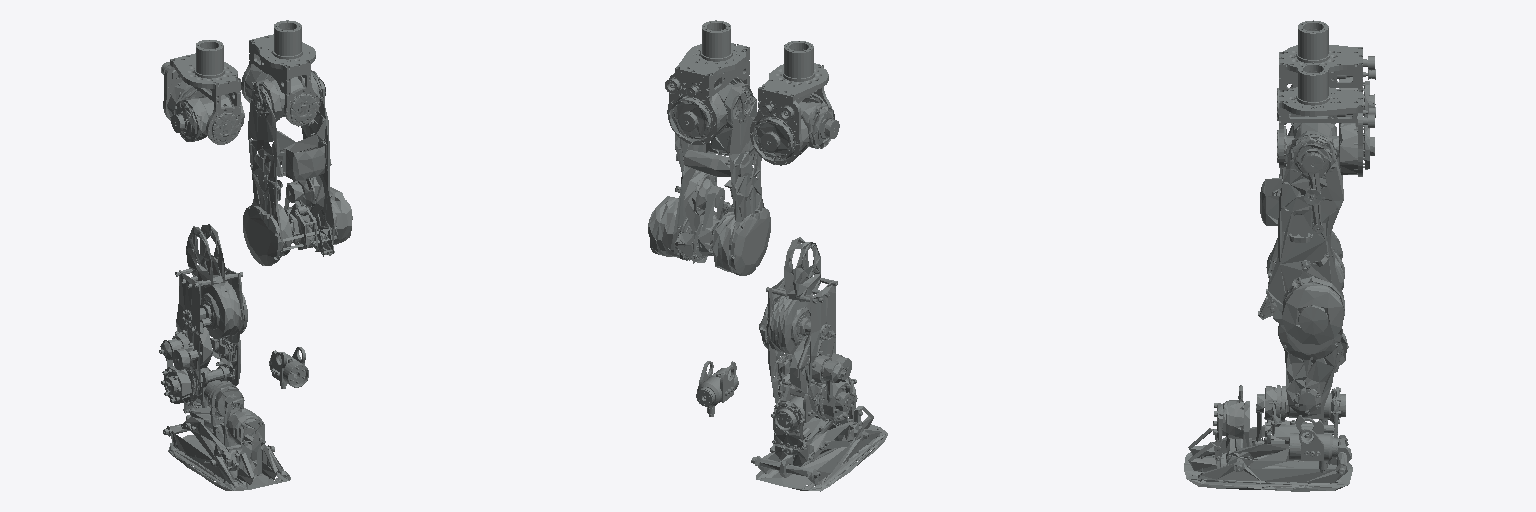
URDF robot description (a600_description):
<?xml version="1.0" encoding="utf-8"?>
<robot
  name="a600_description">
  <link
    name="base_link">
    <inertial>
      <origin
        xyz="-0.0014901 0.13851 0.00071357"
        rpy="0 0 0" />
      <mass
        value="28.386" />
      <inertia
        ixx="0.073017"
        ixy="-3.603E-05"
        ixz="5.7649E-06"
        iyy="0.085864"
        iyz="0.0040898"
        izz="0.10252" />
    </inertial>
    <visual>
      <origin
        xyz="0 0 0"
        rpy="0 0 0" />
      <geometry>
        <mesh
          filename="package://a600_description/meshes/base_link.STL" />
      </geometry>
      <material
        name="">
        <color
          rgba="0.52941 0.54902 0.54902 1" />
      </material>
    </visual>
    <collision>
      <origin
        xyz="0 0 0"
        rpy="0 0 0" />
      <geometry>
        <mesh
          filename="package://a600_description/meshes/base_link.STL" />
      </geometry>
    </collision>
  </link>
  <link
    name="R_HipR">
    <inertial>
      <origin
        xyz="0.00071161 -0.027458 -0.023065"
        rpy="0 0 0" />
      <mass
        value="2.3558" />
      <inertia
        ixx="0.0032395"
        ixy="1.8675E-05"
        ixz="-4.6222E-05"
        iyy="0.0032177"
        iyz="7.5574E-06"
        izz="0.0025538" />
    </inertial>
    <visual>
      <origin
        xyz="0 0 0"
        rpy="0 0 0" />
      <geometry>
        <mesh
          filename="package://a600_description/meshes/R_HipR.STL" />
      </geometry>
      <material
        name="">
        <color
          rgba="0.52941 0.54902 0.54902 1" />
      </material>
    </visual>
    <collision>
      <origin
        xyz="0 0 0"
        rpy="0 0 0" />
      <geometry>
        <mesh
          filename="package://a600_description/meshes/R_HipR.STL" />
      </geometry>
    </collision>
  </link>
  <joint
    name="R_HipR"
    type="continuous">
    <origin
      xyz="-0.088 -0.027645 0"
      rpy="1.5708 0 0" />
    <parent
      link="base_link" />
    <child
      link="R_HipR" />
    <axis
      xyz="0 1 0" />
  </joint>
  <link
    name="R_HipS">
    <inertial>
      <origin
        xyz="0.0032793 0.00011106 0.025957"
        rpy="0 0 0" />
      <mass
        value="6.15" />
      <inertia
        ixx="0.0051093"
        ixy="1.2709E-05"
        ixz="7.1765E-06"
        iyy="0.0048779"
        iyz="-5.4798E-06"
        izz="0.0062721" />
    </inertial>
    <visual>
      <origin
        xyz="0 0 0"
        rpy="0 0 0" />
      <geometry>
        <mesh
          filename="package://a600_description/meshes/R_HipS.STL" />
      </geometry>
      <material
        name="">
        <color
          rgba="0.52941 0.54902 0.54902 1" />
      </material>
    </visual>
    <collision>
      <origin
        xyz="0 0 0"
        rpy="0 0 0" />
      <geometry>
        <mesh
          filename="package://a600_description/meshes/R_HipS.STL" />
      </geometry>
    </collision>
  </link>
  <joint
    name="R_HipS"
    type="continuous">
    <origin
      xyz="0 -0.102 0"
      rpy="3.1416 0 3.1416" />
    <parent
      link="R_HipR" />
    <child
      link="R_HipS" />
    <axis
      xyz="0 0 1" />
  </joint>
  <link
    name="R_Knee_Upper">
    <inertial>
      <origin
        xyz="0.018772 -0.22402 -0.0063916"
        rpy="0 0 0" />
      <mass
        value="16.331" />
      <inertia
        ixx="0.048034"
        ixy="2.0407E-07"
        ixz="-6.8084E-05"
        iyy="0.015142"
        iyz="-0.00213"
        izz="0.039371" />
    </inertial>
    <visual>
      <origin
        xyz="0 0 0"
        rpy="0 0 0" />
      <geometry>
        <mesh
          filename="package://a600_description/meshes/R_Knee_Upper.STL" />
      </geometry>
      <material
        name="">
        <color
          rgba="0.52941 0.54902 0.54902 1" />
      </material>
    </visual>
    <collision>
      <origin
        xyz="0 0 0"
        rpy="0 0 0" />
      <geometry>
        <mesh
          filename="package://a600_description/meshes/R_Knee_Upper.STL" />
      </geometry>
    </collision>
  </link>
  <joint
    name="R_Knee_Upper"
    type="continuous">
    <origin
      xyz="0 0 0"
      rpy="0 0 0" />
    <parent
      link="R_HipS" />
    <child
      link="R_Knee_Upper" />
    <axis
      xyz="1 0 0" />
  </joint>
  <link
    name="R_Knee_Lower">
    <inertial>
      <origin
        xyz="-0.011938 -0.17383 0.0029031"
        rpy="0 0 0" />
      <mass
        value="10.03" />
      <inertia
        ixx="0.020389"
        ixy="3.5365E-08"
        ixz="-9.649E-07"
        iyy="0.0072632"
        iyz="8.7687E-05"
        izz="0.015199" />
    </inertial>
    <visual>
      <origin
        xyz="0 0 0"
        rpy="0 0 0" />
      <geometry>
        <mesh
          filename="package://a600_description/meshes/R_Knee_Lower.STL" />
      </geometry>
      <material
        name="">
        <color
          rgba="0.52941 0.54902 0.54902 1" />
      </material>
    </visual>
    <collision>
      <origin
        xyz="0 0 0"
        rpy="0 0 0" />
      <geometry>
        <mesh
          filename="package://a600_description/meshes/R_Knee_Lower.STL" />
      </geometry>
    </collision>
  </link>
  <joint
    name="R_Knee_Lower"
    type="continuous">
    <origin
      xyz="0 -0.28 0"
      rpy="3.1416 0 3.1416" />
    <parent
      link="R_Knee_Upper" />
    <child
      link="R_Knee_Lower" />
    <axis
      xyz="1 0 0" />
  </joint>
  <link
    name="R_FootR">
    <inertial>
      <origin
        xyz="-0.00069157 0.029306 0.012871"
        rpy="0 0 0" />
      <mass
        value="1.1565" />
      <inertia
        ixx="0.00063348"
        ixy="-6.7285E-07"
        ixz="-4.078E-08"
        iyy="0.00057147"
        iyz="-3.7116E-06"
        izz="0.0003019" />
    </inertial>
    <visual>
      <origin
        xyz="0 0 0"
        rpy="0 0 0" />
      <geometry>
        <mesh
          filename="package://a600_description/meshes/R_FootR.STL" />
      </geometry>
      <material
        name="">
        <color
          rgba="0.52941 0.54902 0.54902 1" />
      </material>
    </visual>
    <collision>
      <origin
        xyz="0 0 0"
        rpy="0 0 0" />
      <geometry>
        <mesh
          filename="package://a600_description/meshes/R_FootR.STL" />
      </geometry>
    </collision>
  </link>
  <joint
    name="R_FootR"
    type="continuous">
    <origin
      xyz="0 -0.27682 0.010063"
      rpy="3.1053 -0.00039391 -0.010836" />
    <parent
      link="R_Knee_Lower" />
    <child
      link="R_FootR" />
    <axis
      xyz="0.99994 -0.010843 0" />
  </joint>
  <link
    name="R_FootS">
    <inertial>
      <origin
        xyz="-6.0221E-05 0.080294 -0.056863"
        rpy="0 0 0" />
      <mass
        value="11.269" />
      <inertia
        ixx="0.02985"
        ixy="-1.1479E-05"
        ixz="7.8243E-06"
        iyy="0.03455"
        iyz="0.00043103"
        izz="0.0088348" />
    </inertial>
    <visual>
      <origin
        xyz="0 0 0"
        rpy="0 0 0" />
      <geometry>
        <mesh
          filename="package://a600_description/meshes/R_FootS.STL" />
      </geometry>
      <material
        name="">
        <color
          rgba="0.52941 0.54902 0.54902 1" />
      </material>
    </visual>
    <collision>
      <origin
        xyz="0 0 0"
        rpy="0 0 0" />
      <geometry>
        <mesh
          filename="package://a600_description/meshes/R_FootS.STL" />
      </geometry>
    </collision>
  </link>
  <joint
    name="R_FootS"
    type="continuous">
    <origin
      xyz="-0.00032467 0.030005 0"
      rpy="0 0 0" />
    <parent
      link="R_FootR" />
    <child
      link="R_FootS" />
    <axis
      xyz="0 0 1" />
  </joint>
  <link
    name="L_HipR">
    <inertial>
      <origin
        xyz="-0.00070201 -0.027248 -0.022799"
        rpy="0 0 0" />
      <mass
        value="2.388" />
      <inertia
        ixx="0.00324"
        ixy="-1.8675E-05"
        ixz="4.6222E-05"
        iyy="0.003218"
        iyz="7.5574E-06"
        izz="0.0025543" />
    </inertial>
    <visual>
      <origin
        xyz="0 0 0"
        rpy="0 0 0" />
      <geometry>
        <mesh
          filename="package://a600_description/meshes/L_HipR.STL" />
      </geometry>
      <material
        name="">
        <color
          rgba="0.52941 0.54902 0.54902 1" />
      </material>
    </visual>
    <collision>
      <origin
        xyz="0 0 0"
        rpy="0 0 0" />
      <geometry>
        <mesh
          filename="package://a600_description/meshes/L_HipR.STL" />
      </geometry>
    </collision>
  </link>
  <joint
    name="L_HipR"
    type="continuous">
    <origin
      xyz="0.088 -0.027645 0"
      rpy="1.5708 0 0" />
    <parent
      link="base_link" />
    <child
      link="L_HipR" />
    <axis
      xyz="0 1 0" />
  </joint>
  <link
    name="L_HipS">
    <inertial>
      <origin
        xyz="0.0033351 0.00011632 -0.025364"
        rpy="0 0 0" />
      <mass
        value="6.15" />
      <inertia
        ixx="0.005105"
        ixy="1.2895E-05"
        ixz="1.554E-07"
        iyy="0.0048687"
        iyz="1.0129E-05"
        izz="0.006262" />
    </inertial>
    <visual>
      <origin
        xyz="0 0 0"
        rpy="0 0 0" />
      <geometry>
        <mesh
          filename="package://a600_description/meshes/L_HipS.STL" />
      </geometry>
      <material
        name="">
        <color
          rgba="0.52941 0.54902 0.54902 1" />
      </material>
    </visual>
    <collision>
      <origin
        xyz="0 0 0"
        rpy="0 0 0" />
      <geometry>
        <mesh
          filename="package://a600_description/meshes/L_HipS.STL" />
      </geometry>
    </collision>
  </link>
  <joint
    name="L_HipS"
    type="continuous">
    <origin
      xyz="0 -0.102 0"
      rpy="0 0 0" />
    <parent
      link="L_HipR" />
    <child
      link="L_HipS" />
    <axis
      xyz="0 0 1" />
  </joint>
  <link
    name="L_Knee_upper">
    <inertial>
      <origin
        xyz="0.018739 -0.22354 0.0087895"
        rpy="0 0 0" />
      <mass
        value="16.528" />
      <inertia
        ixx="0.048222"
        ixy="4.2459E-06"
        ixz="6.2369E-05"
        iyy="0.015119"
        iyz="0.002184"
        izz="0.039943" />
    </inertial>
    <visual>
      <origin
        xyz="0 0 0"
        rpy="0 0 0" />
      <geometry>
        <mesh
          filename="package://a600_description/meshes/L_Knee_upper.STL" />
      </geometry>
      <material
        name="">
        <color
          rgba="0.52941 0.54902 0.54902 1" />
      </material>
    </visual>
    <collision>
      <origin
        xyz="0 0 0"
        rpy="0 0 0" />
      <geometry>
        <mesh
          filename="package://a600_description/meshes/L_Knee_upper.STL" />
      </geometry>
    </collision>
  </link>
  <joint
    name="L_Knee_upper"
    type="continuous">
    <origin
      xyz="0 0 0"
      rpy="0 0 0" />
    <parent
      link="L_HipS" />
    <child
      link="L_Knee_upper" />
    <axis
      xyz="1 0 0" />
  </joint>
  <link
    name="L_Knee_Lower">
    <inertial>
      <origin
        xyz="0.011812 -0.16731 -0.0034716"
        rpy="0 0 0" />
      <mass
        value="10.498" />
      <inertia
        ixx="0.021077"
        ixy="-1.0082E-06"
        ixz="-1.8986E-06"
        iyy="0.007636"
        iyz="-0.00016695"
        izz="0.01553" />
    </inertial>
    <visual>
      <origin
        xyz="0 0 0"
        rpy="0 0 0" />
      <geometry>
        <mesh
          filename="package://a600_description/meshes/L_Knee_Lower.STL" />
      </geometry>
      <material
        name="">
        <color
          rgba="0.52941 0.54902 0.54902 1" />
      </material>
    </visual>
    <collision>
      <origin
        xyz="0 0 0"
        rpy="0 0 0" />
      <geometry>
        <mesh
          filename="package://a600_description/meshes/L_Knee_Lower.STL" />
      </geometry>
    </collision>
  </link>
  <joint
    name="L_Knee_Lower"
    type="continuous">
    <origin
      xyz="0 -0.28 0"
      rpy="-0.036336 0 0" />
    <parent
      link="L_Knee_upper" />
    <child
      link="L_Knee_Lower" />
    <axis
      xyz="1 0 0" />
  </joint>
  <link
    name="L_FootR">
    <inertial>
      <origin
        xyz="0.00060836 0.029292 0.012871"
        rpy="0 0 0" />
      <mass
        value="1.1565" />
      <inertia
        ixx="0.00063348"
        ixy="-6.7285E-07"
        ixz="-4.078E-08"
        iyy="0.00057147"
        iyz="-3.7116E-06"
        izz="0.0003019" />
    </inertial>
    <visual>
      <origin
        xyz="0 0 0"
        rpy="0 0 0" />
      <geometry>
        <mesh
          filename="package://a600_description/meshes/L_FootR.STL" />
      </geometry>
      <material
        name="">
        <color
          rgba="0.52941 0.54902 0.54902 1" />
      </material>
    </visual>
    <collision>
      <origin
        xyz="0 0 0"
        rpy="0 0 0" />
      <geometry>
        <mesh
          filename="package://a600_description/meshes/L_FootR.STL" />
      </geometry>
    </collision>
  </link>
  <joint
    name="L_FootR"
    type="continuous">
    <origin
      xyz="0 -0.277 0"
      rpy="3.1416 0 -0.010843" />
    <parent
      link="L_Knee_Lower" />
    <child
      link="L_FootR" />
    <axis
      xyz="0.99994 -0.010843 0" />
  </joint>
  <link
    name="L_FootS">
    <inertial>
      <origin
        xyz="-6.0221E-05 0.080294 -0.056863"
        rpy="0 0 0" />
      <mass
        value="11.269" />
      <inertia
        ixx="0.02985"
        ixy="-1.1479E-05"
        ixz="7.8243E-06"
        iyy="0.03455"
        iyz="0.00043103"
        izz="0.0088348" />
    </inertial>
    <visual>
      <origin
        xyz="0 0 0"
        rpy="0 0 0" />
      <geometry>
        <mesh
          filename="package://a600_description/meshes/L_FootS.STL" />
      </geometry>
      <material
        name="">
        <color
          rgba="0.52941 0.54902 0.54902 1" />
      </material>
    </visual>
    <collision>
      <origin
        xyz="0 0 0"
        rpy="0 0 0" />
      <geometry>
        <mesh
          filename="package://a600_description/meshes/L_FootS.STL" />
      </geometry>
    </collision>
  </link>
  <joint
    name="L_FootS"
    type="continuous">
    <origin
      xyz="0.00097526 0.029991 0"
      rpy="0 0 0" />
    <parent
      link="L_FootR" />
    <child
      link="L_FootS" />
    <axis
      xyz="0 0 1" />
  </joint>
</robot>

--- Facts derived from the render (not from the file) ---
The picture shows the robot from 3 angles, left to right: view 1: azimuth 30°, elevation 25°; view 2: azimuth 150°, elevation 25°; view 3: azimuth 270°, elevation 25°; orthographic projection.
Model a600_description with 13 links and 12 joints (12 continuous), rooted at base_link, posed all joints at 0.
Links seen in each view (by area): view 1: L_Knee_upper, R_Knee_Lower, R_FootS, R_HipR, L_HipR, R_HipS, L_HipS, L_FootR; view 2: L_Knee_upper, R_Knee_Lower, R_FootS, L_HipR, R_HipR, R_HipS, L_HipS, L_FootR; view 3: L_Knee_upper, R_FootS, L_HipR, R_Knee_Lower, R_HipR, L_HipS, L_FootR.
Boxes of the visible links, left/top/right/bottom form: L_Knee_upper: left=243, top=70, right=352, bottom=265; R_Knee_Lower: left=159, top=224, right=247, bottom=403; R_FootS: left=163, top=367, right=290, bottom=490; R_HipR: left=161, top=40, right=241, bottom=144; L_HipR: left=241, top=20, right=319, bottom=125; R_HipS: left=167, top=81, right=244, bottom=141; L_HipS: left=245, top=61, right=325, bottom=122; L_FootR: left=269, top=347, right=308, bottom=388; L_Knee_upper: left=648, top=86, right=770, bottom=275; R_Knee_Lower: left=759, top=237, right=855, bottom=421; R_FootS: left=751, top=377, right=887, bottom=491; L_HipR: left=665, top=20, right=749, bottom=144; R_HipR: left=750, top=41, right=831, bottom=165; R_HipS: left=753, top=93, right=839, bottom=160; L_HipS: left=670, top=77, right=752, bottom=141; L_FootR: left=696, top=361, right=738, bottom=416; L_Knee_upper: left=1258, top=133, right=1344, bottom=344; R_FootS: left=1184, top=385, right=1352, bottom=491; L_HipR: left=1279, top=62, right=1375, bottom=176; R_Knee_Lower: left=1278, top=231, right=1348, bottom=416; R_HipR: left=1279, top=20, right=1375, bottom=124; L_HipS: left=1277, top=115, right=1374, bottom=174; L_FootR: left=1289, top=415, right=1338, bottom=472.
Bounding box of the posed robot: 0.4148 × 0.3395 × 0.8762 m (x, y, z).
Meshes: 13 distinct files referenced, 9 mesh visuals loaded (9 binary STL); not drawn: 4 (reference not matched to a file when rendering).